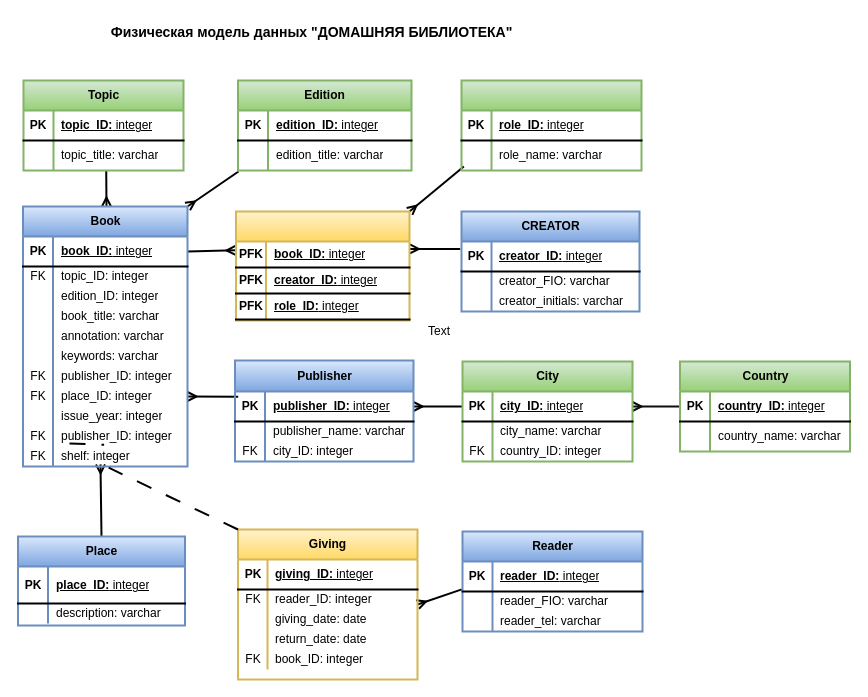
This 868x697 diagram has some shape labels left out. Here are the shapes that lost their labels. From the top down, the box of each, then its label:
(460, 79, 642, 171): Creator_role
(234, 210, 410, 321): Party
